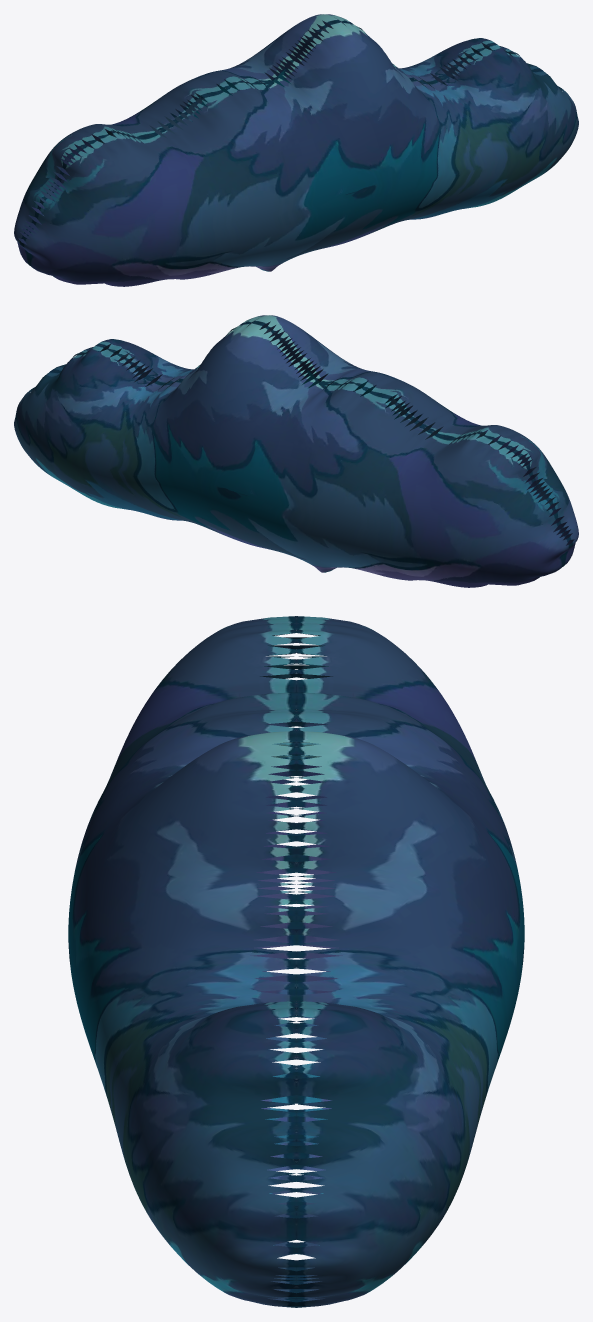
The model's file is ridge_wall.glb.
The picture shows the model from 3 angles, top to bottom: view 1: azimuth 30°, elevation 25°; view 2: azimuth 150°, elevation 25°; view 3: azimuth 270°, elevation 25°; orthographic projection. The views are drawn at different scales.
Visible parts, largest first — view 1: ridge_wall; view 2: ridge_wall; view 3: ridge_wall.
Part boxes in pixels (left/top/right/bottom): ridge_wall: left=14, top=14, right=578, bottom=286; ridge_wall: left=14, top=315, right=578, bottom=587; ridge_wall: left=68, top=616, right=524, bottom=1307.
Size of the model in its own units: 0.9885 by 0.358 by 0.3555.
Materials: 1 (1 with a texture image).
